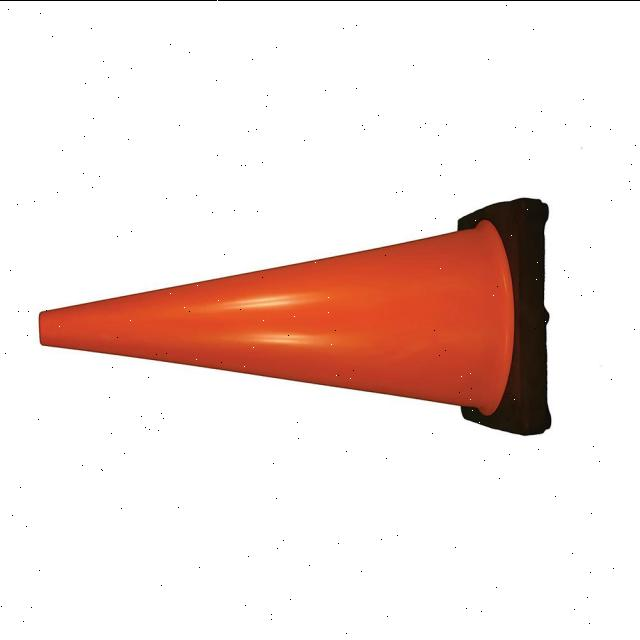traffic cone: (33, 187, 565, 445)
